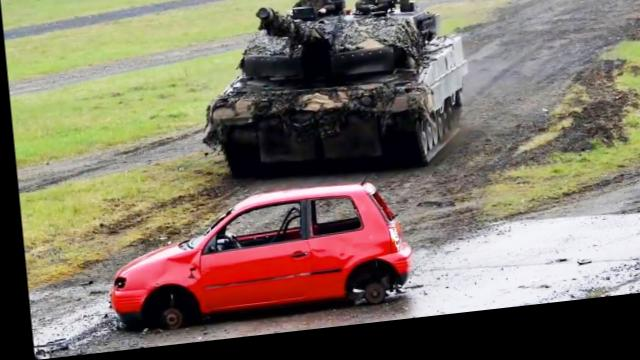other: (352, 0, 389, 21), (291, 0, 331, 19)
tank: (199, 11, 468, 184)
